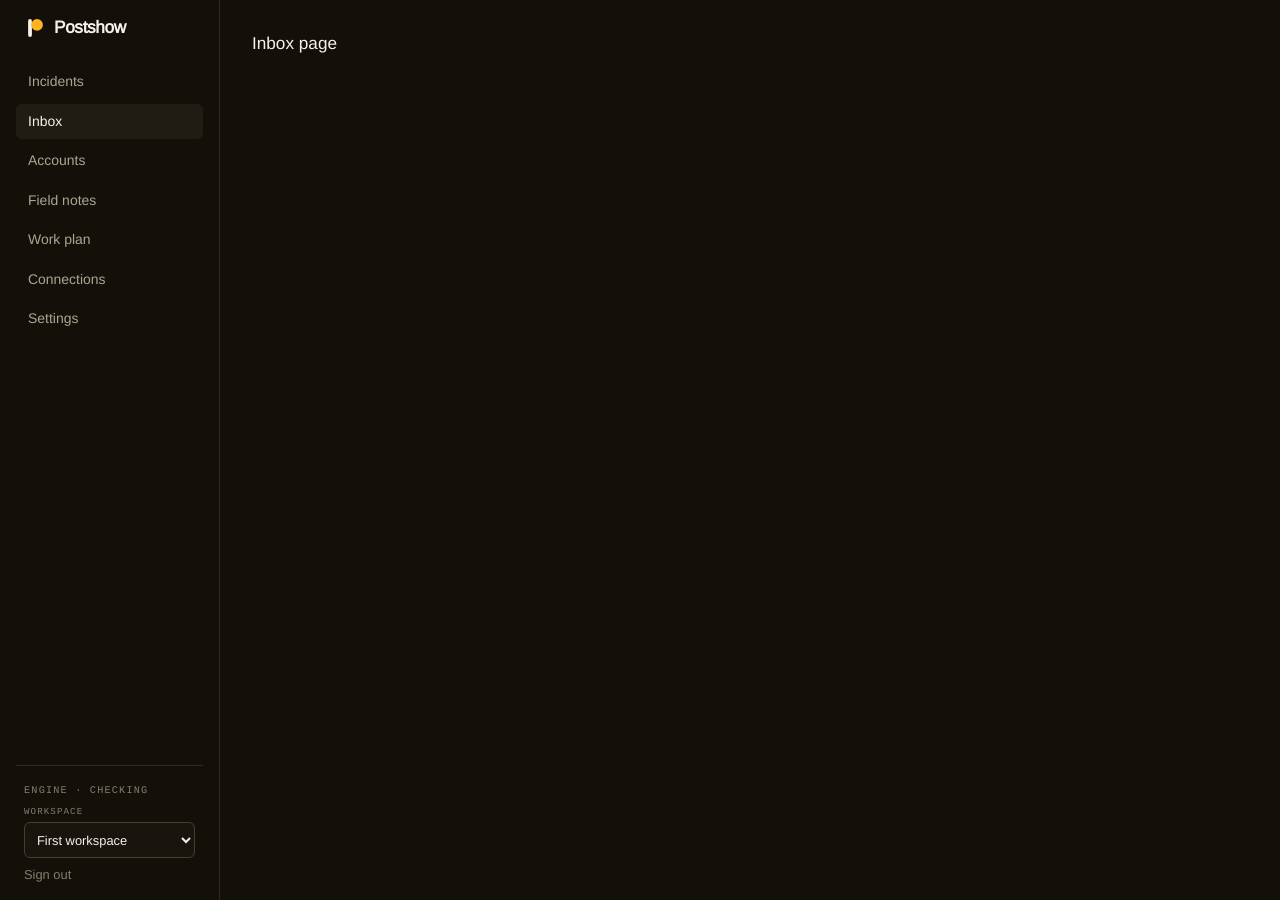
Test: AppShell workspace switcher › surfaces a failed sign-out instead of silently leaving the session active
Click the button "Sign out": (48, 875) [24,866,71,884]
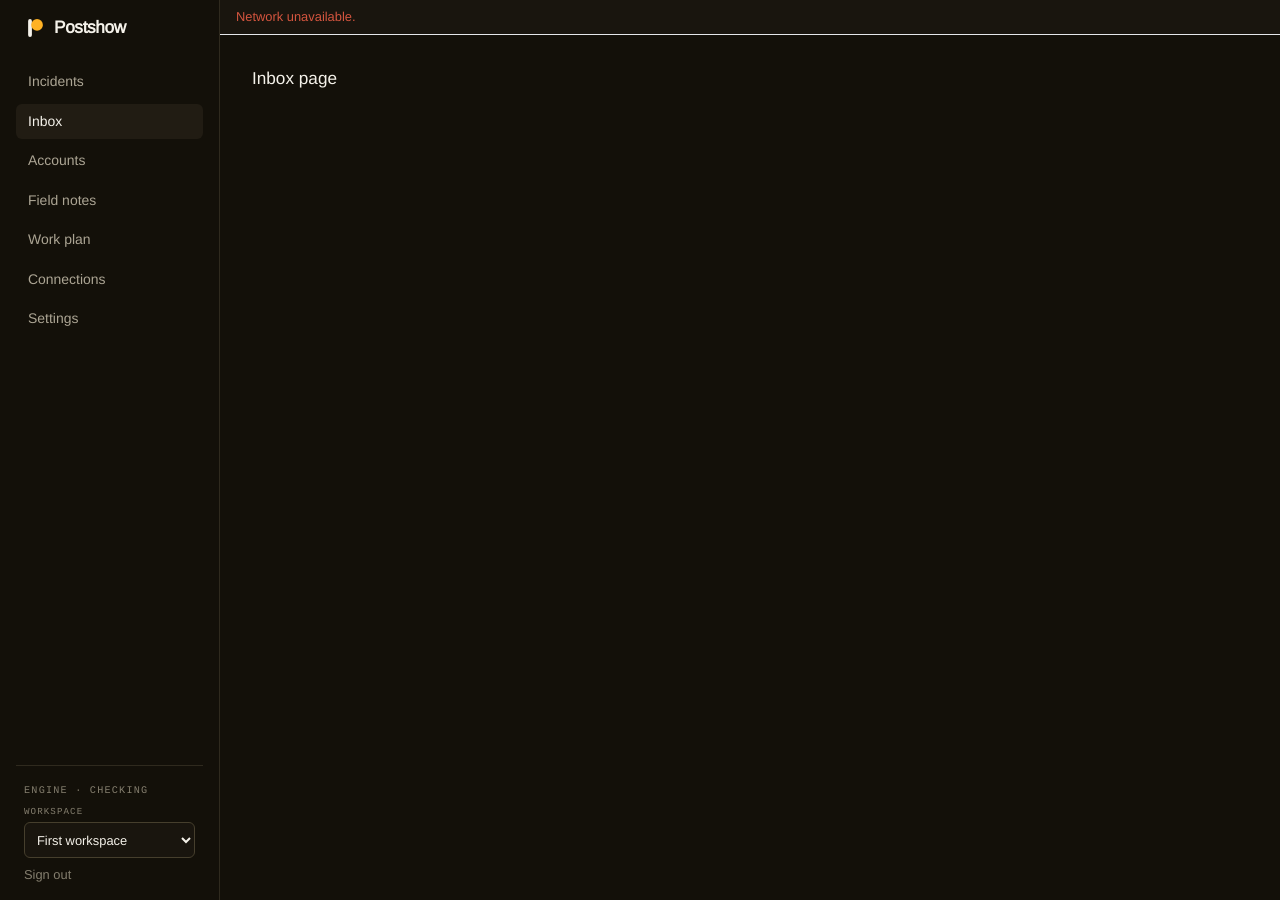
Expected: the message reads "Network unavailable.", [236,9,356,24]
